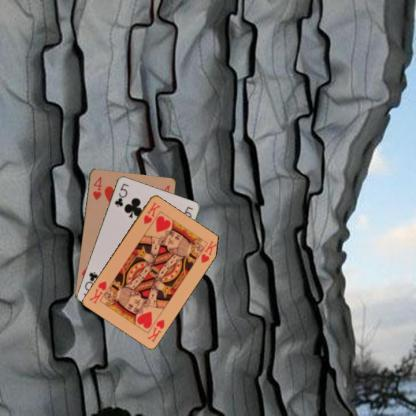4h: (90, 174, 103, 201)
5c: (112, 181, 130, 208)
Kh: (144, 316, 166, 344), (141, 200, 162, 226)
